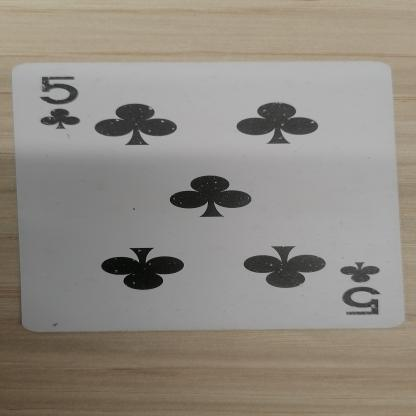5C: (16, 70, 103, 140), (324, 248, 396, 318)
